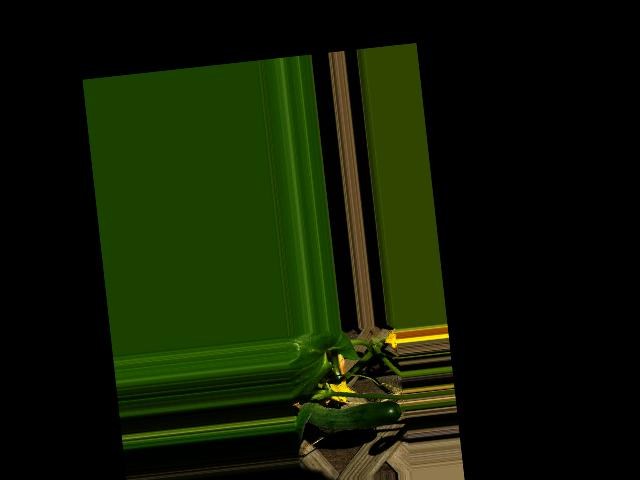cucumber: (293, 392, 401, 436)
